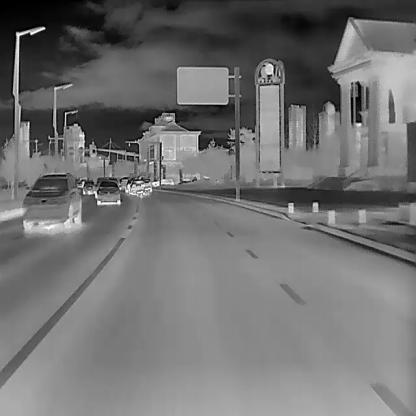car: (22, 171, 82, 234), (96, 178, 120, 204), (82, 177, 95, 195), (130, 178, 144, 194), (140, 178, 151, 194), (120, 175, 131, 189)
